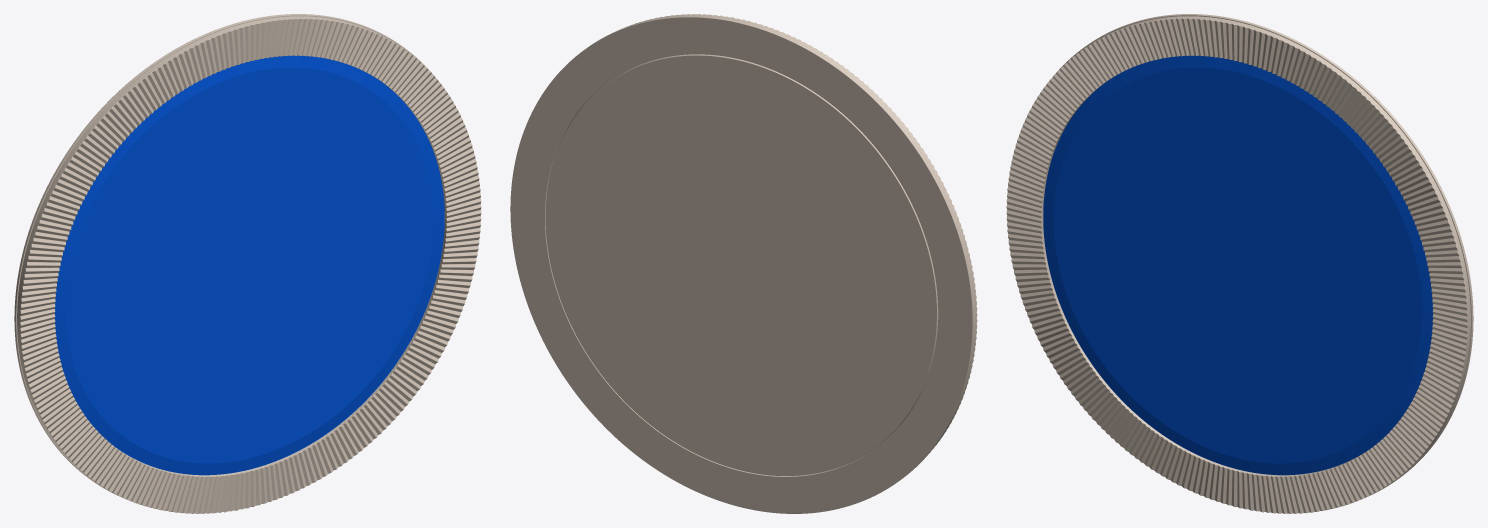
Rendered from Ring-M.glb.
3 views of the same model, side by side, from view 1: azimuth 30°, elevation 25°; view 2: azimuth 150°, elevation 25°; view 3: azimuth 330°, elevation 25° (orthographic).
Visible parts, largest first — view 1: RING, RING.001; view 2: RING, RING.001; view 3: RING, RING.001.
Part boxes in pixels (left/top/right/bottom): RING: left=17, top=16, right=481, bottom=513; RING.001: left=14, top=14, right=428, bottom=497; RING: left=545, top=14, right=977, bottom=475; RING.001: left=510, top=16, right=974, bottom=513; RING: left=1006, top=16, right=1470, bottom=513; RING.001: left=1059, top=14, right=1473, bottom=497.
Size of the model in its own units: 2.01 by 2.01 by 0.0448.
